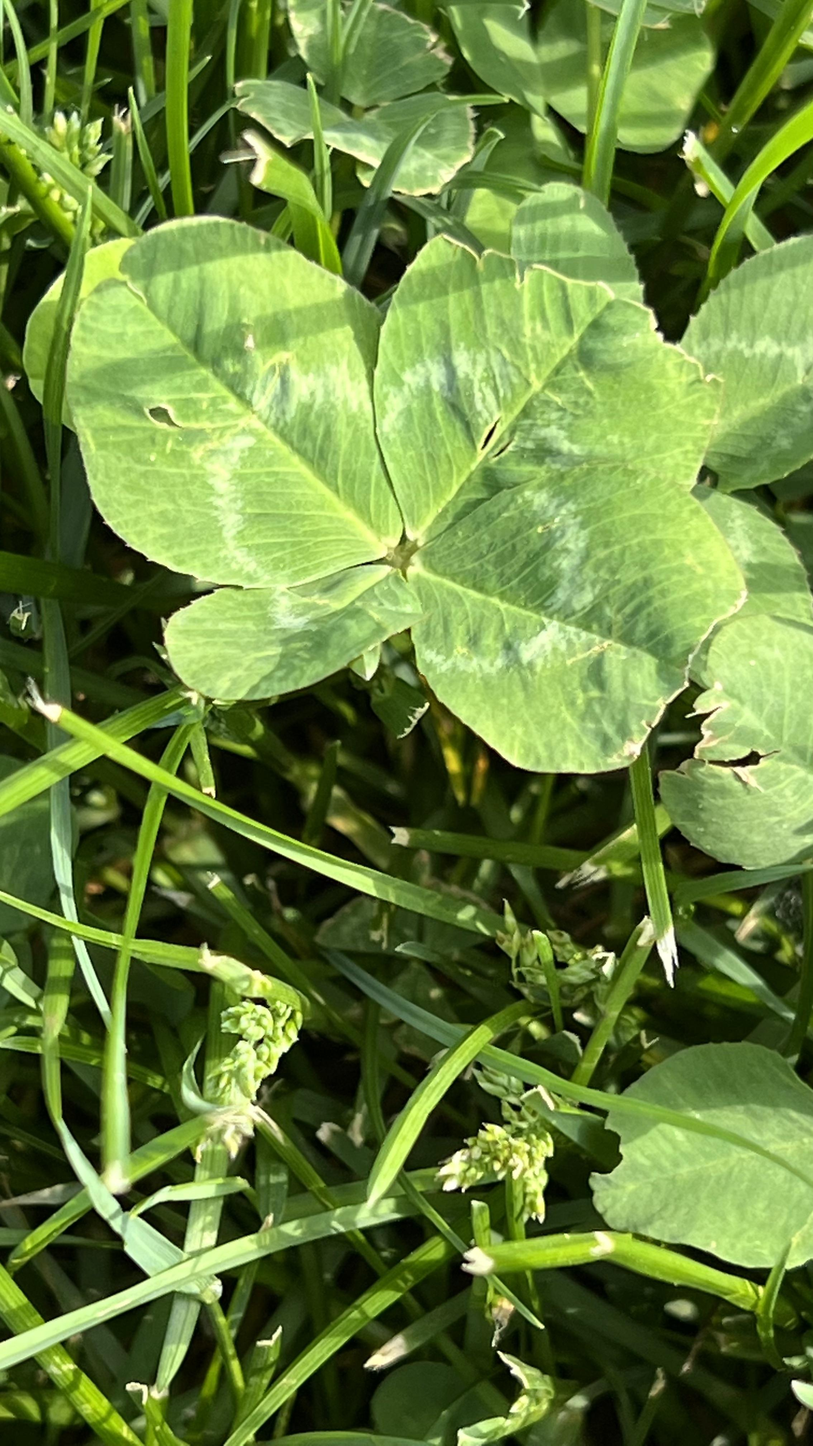4-Leaf-Clovers: (108, 119, 435, 1319)
